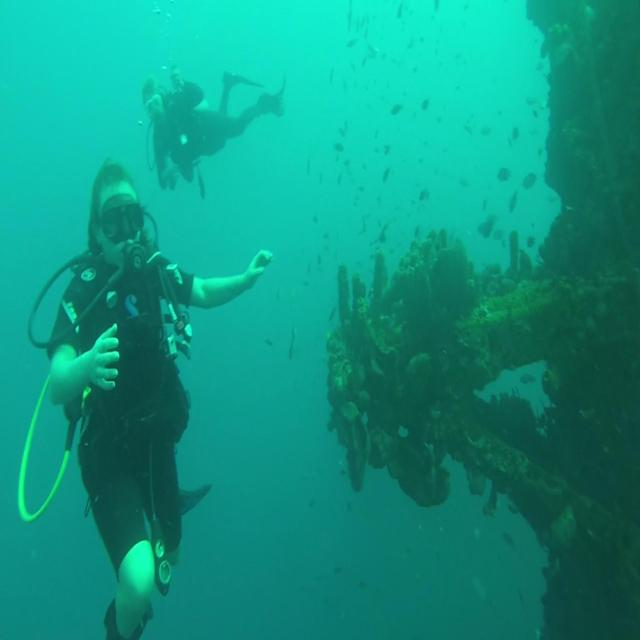human: (36, 157, 274, 638), (141, 64, 286, 198)
